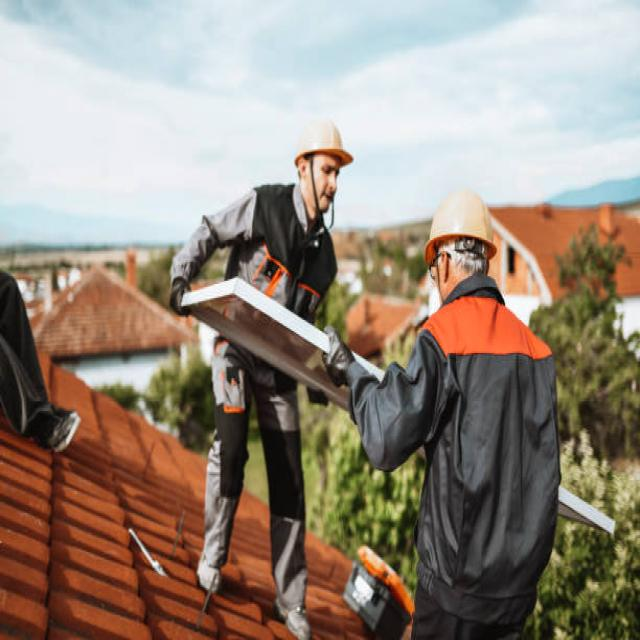Gloves: (318, 324, 356, 389), (168, 271, 196, 326)
helmet: (422, 189, 500, 267), (293, 118, 355, 168)
person: (165, 115, 353, 640), (349, 187, 564, 640)
